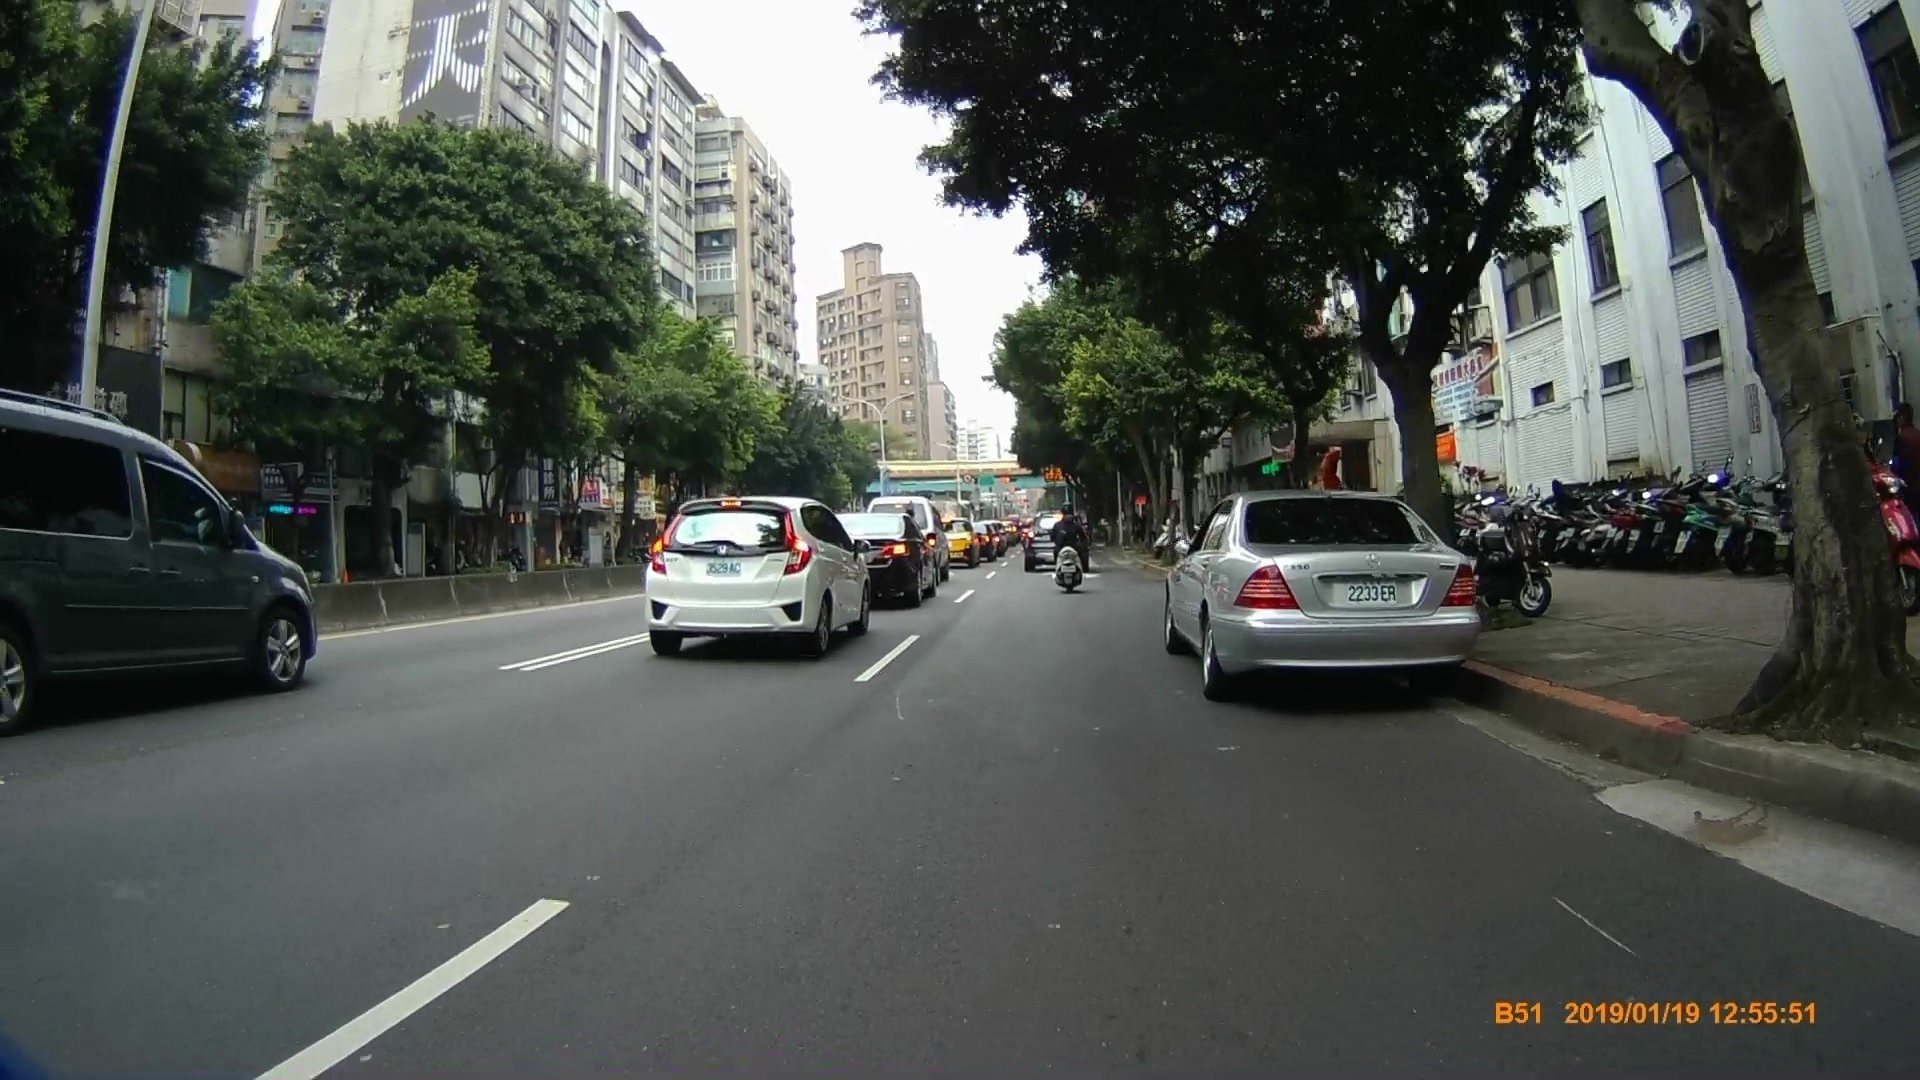License_plate: (1345, 580, 1400, 609), (704, 554, 744, 580)
